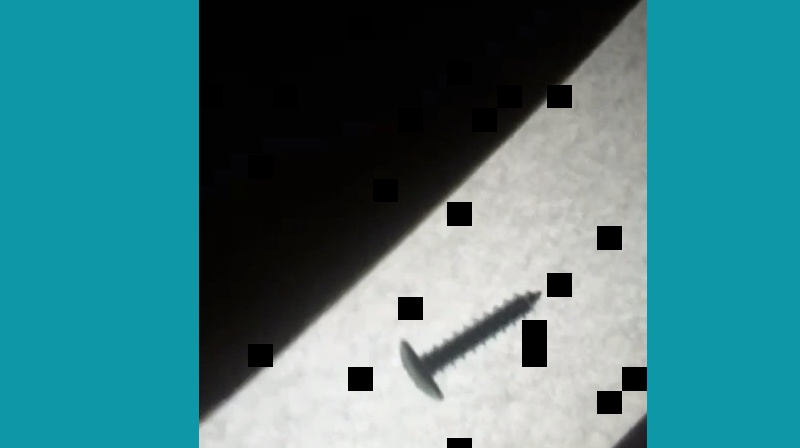S003: (394, 286, 545, 402)
